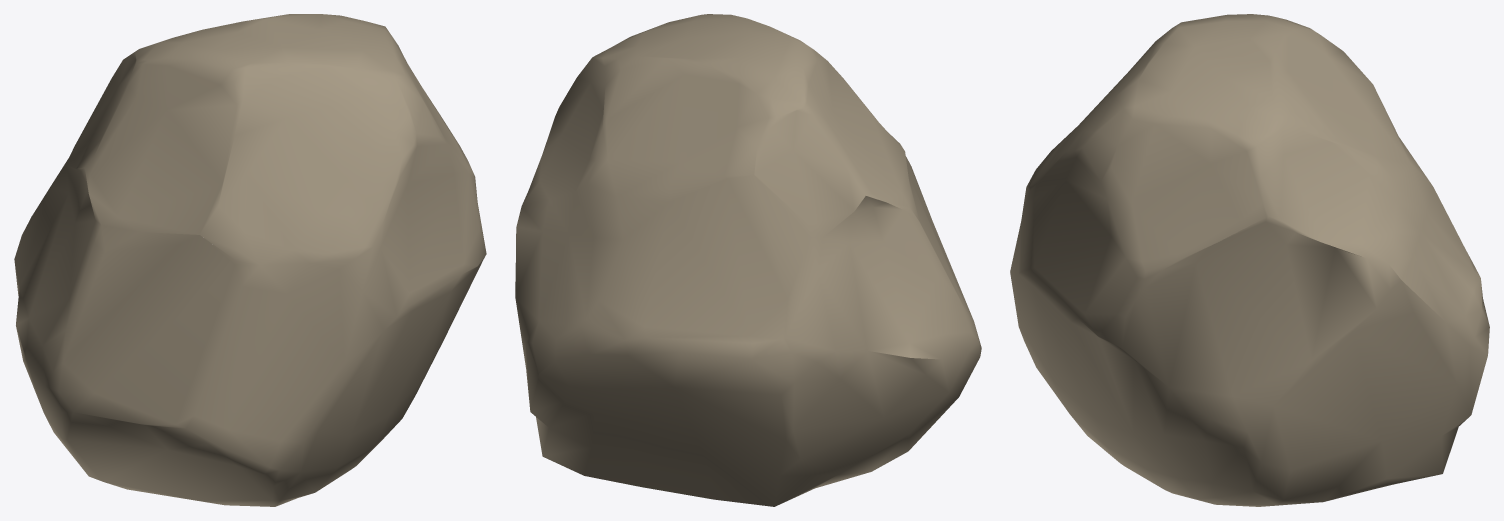
Rendered from rock_2.glb.
The picture shows the model from 3 angles, left to right: view 1: azimuth 30°, elevation 25°; view 2: azimuth 150°, elevation 25°; view 3: azimuth 270°, elevation 25°; orthographic projection. The views are drawn at different scales.
Visible parts, largest first — view 1: Environment_Rock_4; view 2: Environment_Rock_4; view 3: Environment_Rock_4.
Part boxes in pixels (left/top/right/bottom): Environment_Rock_4: left=14, top=14, right=486, bottom=506; Environment_Rock_4: left=515, top=14, right=981, bottom=506; Environment_Rock_4: left=1010, top=14, right=1489, bottom=506.
Bounding box in the file's own units: 0.7628 × 0.7114 × 0.746.
1 material, 1 textured.
